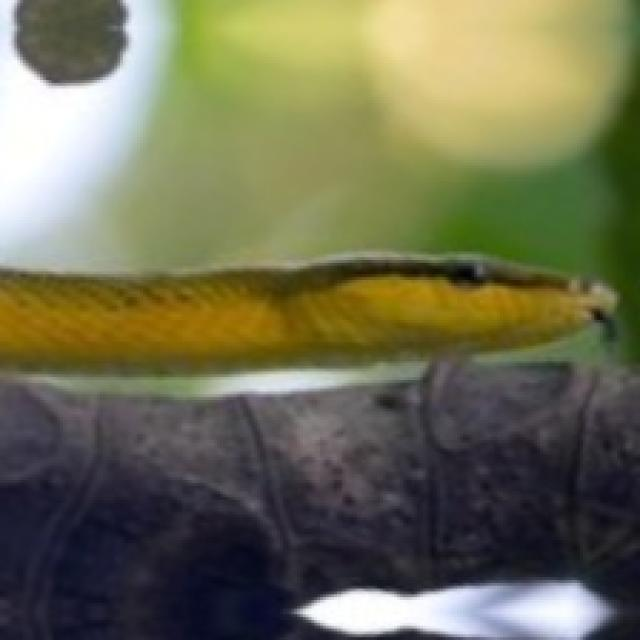red-tailed green ratsnake: (0, 254, 611, 386)
